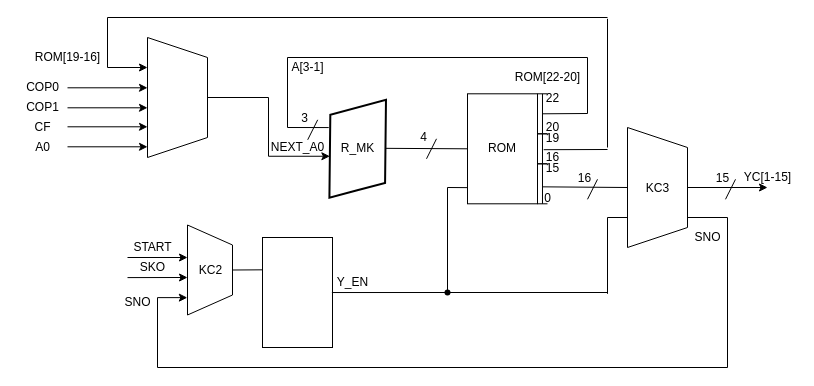
Some shapes in this 814 by 386 pixel diagram are drawn without their labels. The shapes that lost their labels are listed below. From the top down, each one's centre as x and y in pixels, then its label:
At (177,97): "KC1".
At (297,292): "SPO".
